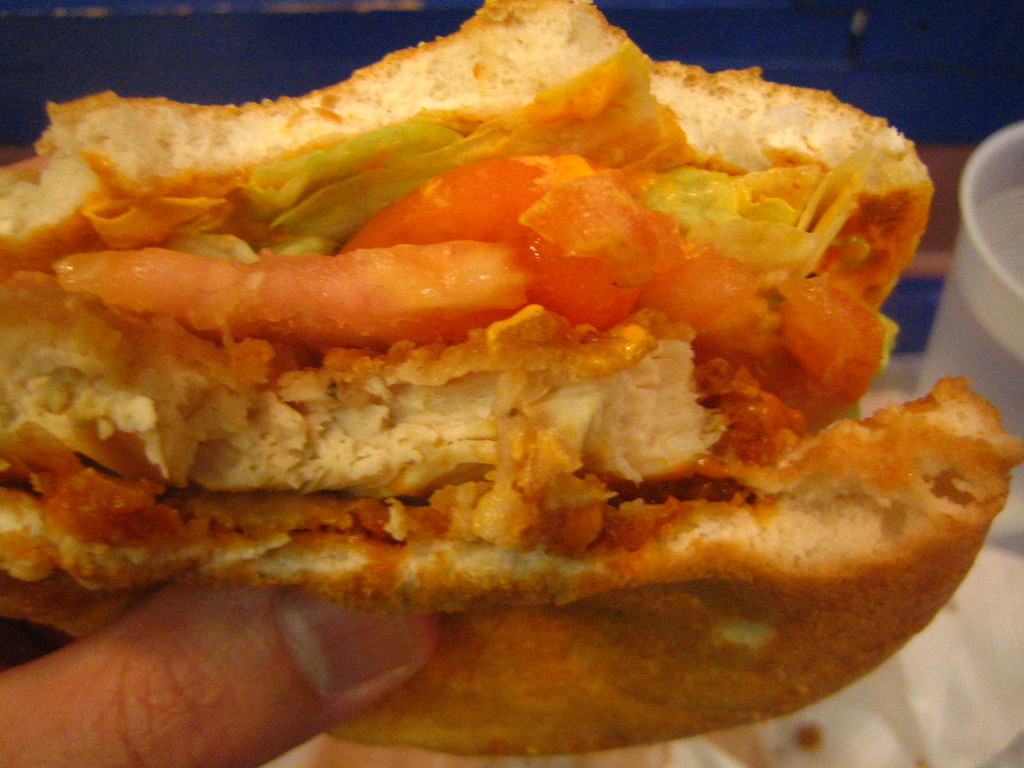Hamburger: (0, 0, 1023, 753)
